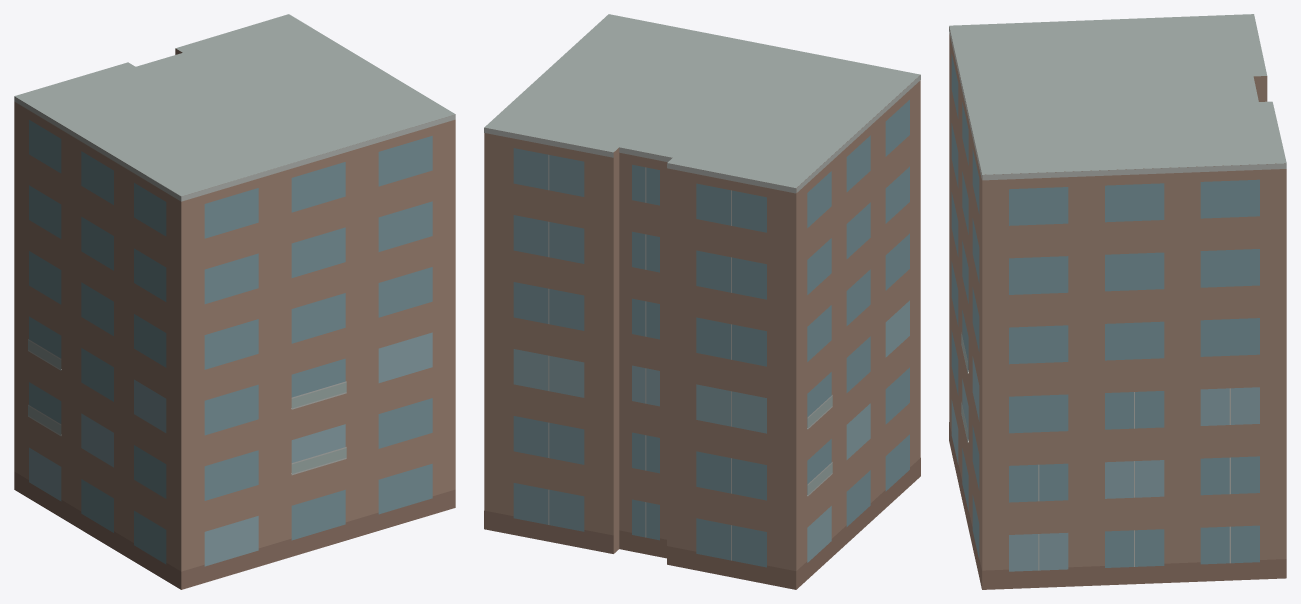
File: survey-upis-32630008.glb
3 renders of one model, left to right at view 1: azimuth 30°, elevation 25°; view 2: azimuth 150°, elevation 25°; view 3: azimuth 270°, elevation 25°, orthographic. The views are drawn at different scales.
Parts seen in each view (by area): view 1: survey-upis-32630008.tmp; view 2: survey-upis-32630008.tmp; view 3: survey-upis-32630008.tmp.
Boxes of the visible parts, box(x1,y1,x2,y2) form: survey-upis-32630008.tmp: box(14, 14, 455, 589); survey-upis-32630008.tmp: box(484, 14, 920, 589); survey-upis-32630008.tmp: box(949, 14, 1286, 589).
Size of the model in its own units: 15.22 by 18.3 by 13.5.
